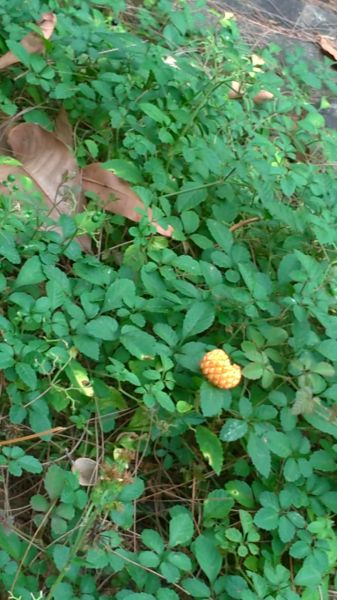eggs: (193, 344, 247, 393)
